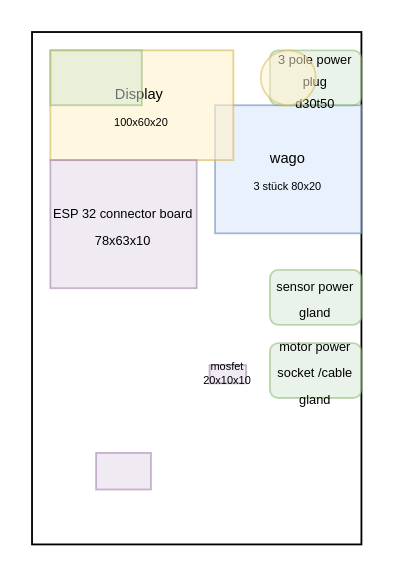
Some shapes in this 393 by 576 pixel diagram are drawn without their labels. Each missing label, with the box of its shape:
ky-040 encoder: (259, 48, 316, 105)
LM2569 43x21x12: (48, 48, 142, 105)
sv65 CAN transciver28x11x11: (94, 451, 151, 490)
